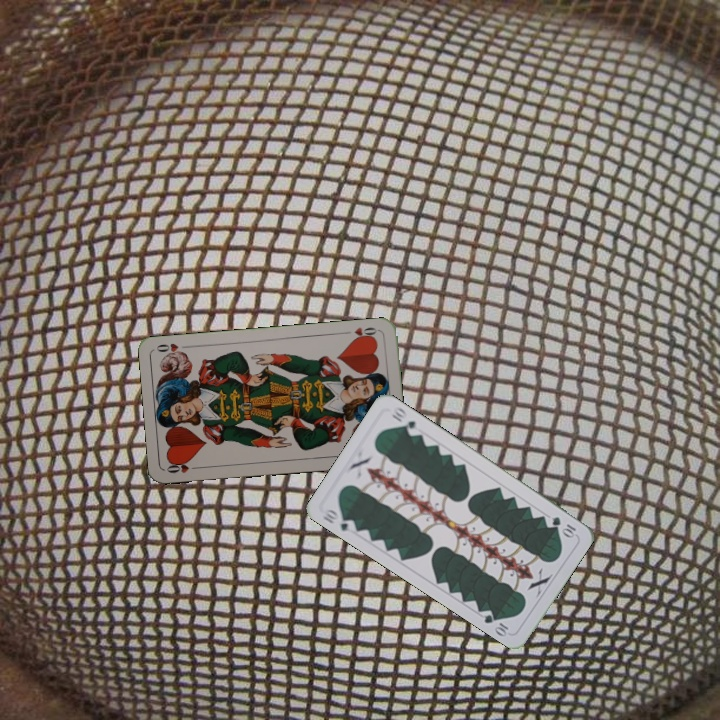G10: (318, 505, 358, 535), (547, 512, 578, 540)
HO: (341, 323, 381, 343), (163, 458, 203, 476)
